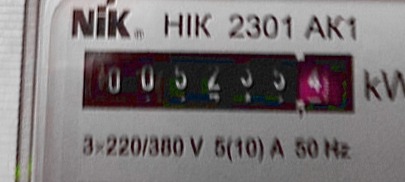0: (138, 60, 159, 93), (106, 63, 125, 95)
2: (204, 59, 226, 93)
3: (236, 58, 261, 91)
4: (305, 59, 328, 96)
5: (270, 57, 293, 94), (172, 59, 192, 92)
screen: (67, 33, 371, 128)
